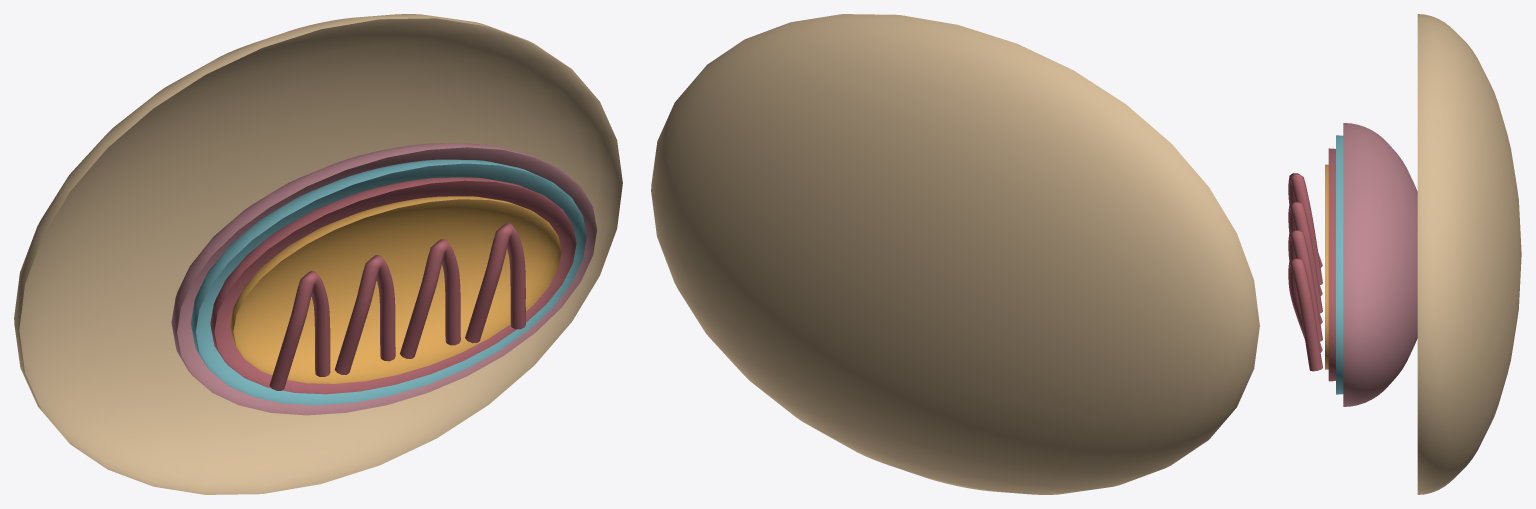
The model's file is metabolic-cell.glb.
3 renders of one model, left to right at view 1: azimuth 30°, elevation 25°; view 2: azimuth 150°, elevation 25°; view 3: azimuth 270°, elevation 25°, orthographic. The views are drawn at different scales.
Parts seen in each view (by area): view 1: cytosol, matrix, inner_membrane, mitochondrial_outer_membrane, intermembrane_space; view 2: cytosol; view 3: cytosol, mitochondrial_outer_membrane, inner_membrane, intermembrane_space, matrix.
Boxes of the visible parts, left/top/right/bottom form: cytosol: left=14, top=14, right=622, bottom=494; matrix: left=230, top=196, right=561, bottom=383; inner_membrane: left=210, top=177, right=576, bottom=394; mitochondrial_outer_membrane: left=171, top=143, right=596, bottom=415; intermembrane_space: left=190, top=159, right=586, bottom=405; cytosol: left=651, top=14, right=1259, bottom=494; cytosol: left=1417, top=14, right=1521, bottom=494; mitochondrial_outer_membrane: left=1343, top=123, right=1417, bottom=406; inner_membrane: left=1288, top=148, right=1335, bottom=381; intermembrane_space: left=1336, top=135, right=1343, bottom=394; matrix: left=1325, top=164, right=1328, bottom=369.
Bounding box in the file's own units: 2.5 × 1.8 × 0.9425.
